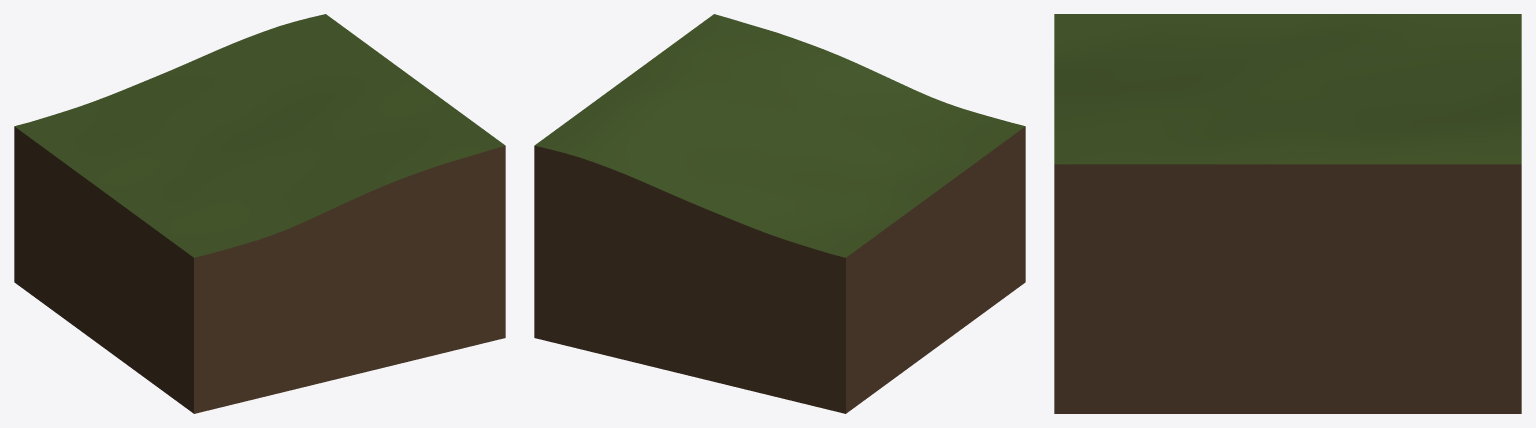
3 renders of one model, left to right at view 1: azimuth 30°, elevation 25°; view 2: azimuth 150°, elevation 25°; view 3: azimuth 270°, elevation 25°, orthographic. The views are drawn at different scales.
Parts seen in each view (by area): view 1: c0go; view 2: c0go; view 3: c0go.
Boxes of the visible parts, x1=… form: c0go: x1=14, y1=14, x2=505, y2=413; c0go: x1=534, y1=14, x2=1025, y2=413; c0go: x1=1054, y1=14, x2=1521, y2=413.
Size of the model in its own units: 9 by 5.32 by 9.
